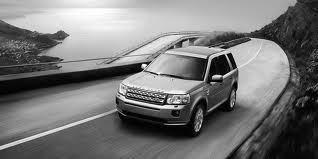car: (115, 46, 243, 137)
